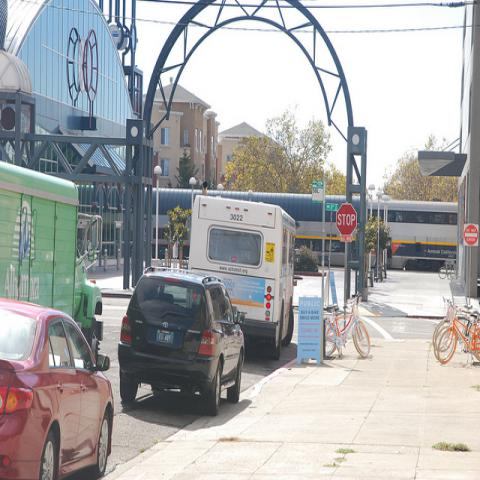car: (115, 264, 247, 420), (0, 296, 114, 474)
truck: (0, 161, 104, 359), (188, 196, 299, 359)
